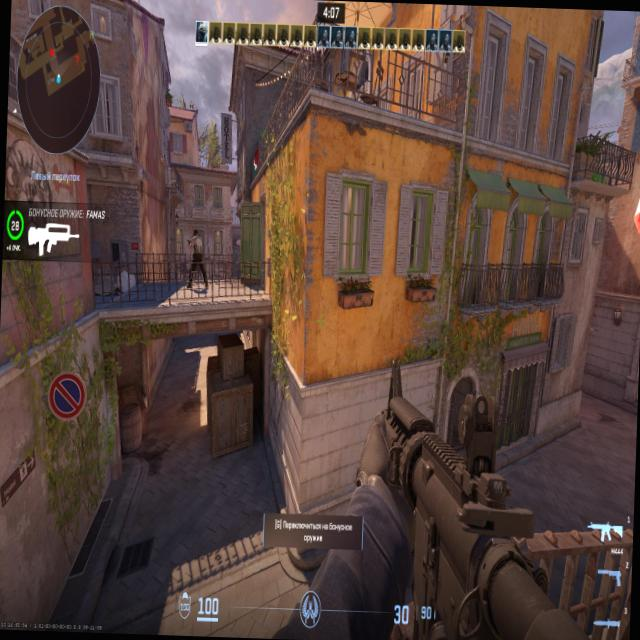T: (190, 229, 203, 282)
T_heat: (192, 232, 200, 245)
